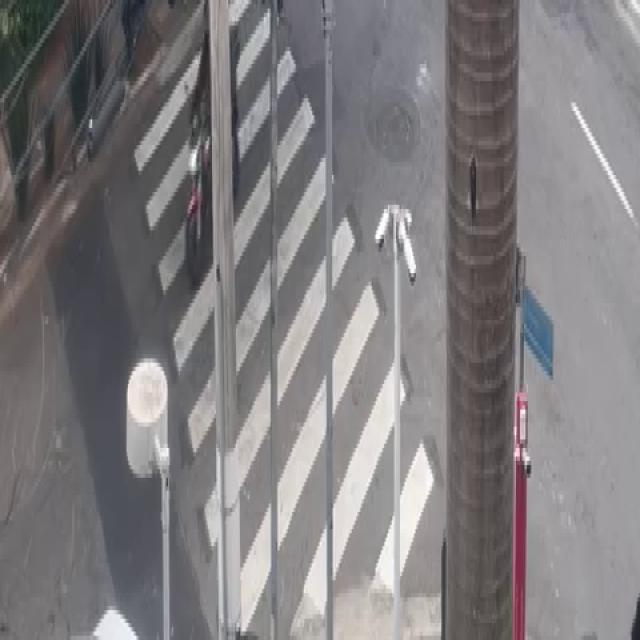motorbike: (180, 3, 256, 281)
